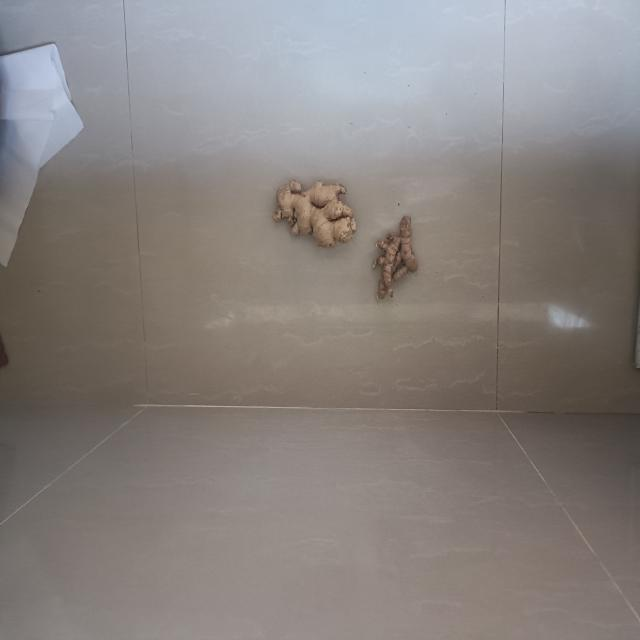ginger: (273, 179, 358, 251), (375, 209, 419, 302)
